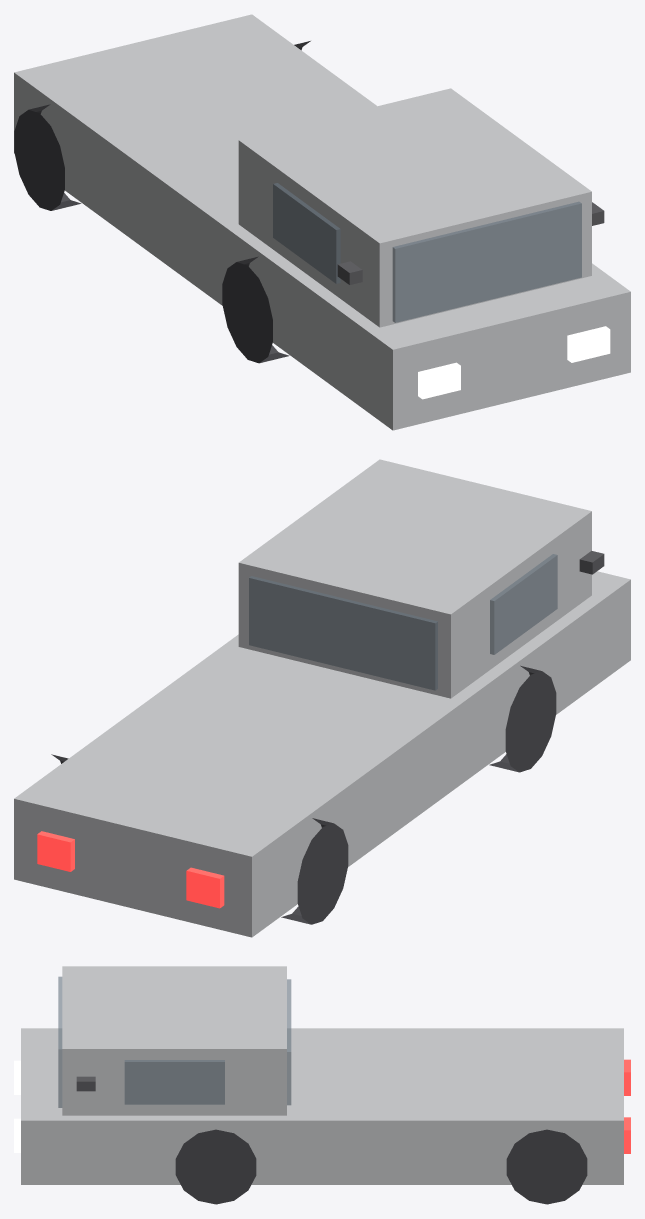
Rendered from pickup.glb.
3 renders of one model, top to bottom at view 1: azimuth 30°, elevation 25°; view 2: azimuth 150°, elevation 25°; view 3: azimuth 270°, elevation 25°, orthographic. The views are drawn at different scales.
Visible parts, largest first — view 1: pickup; view 2: pickup; view 3: pickup.
Boxes of the visible parts, left/top/right/bottom form: pickup: left=14, top=14, right=630, bottom=430; pickup: left=14, top=459, right=630, bottom=937; pickup: left=14, top=966, right=630, bottom=1204.
Size of the model in its own units: 2.2 by 1.33 by 5.22.
